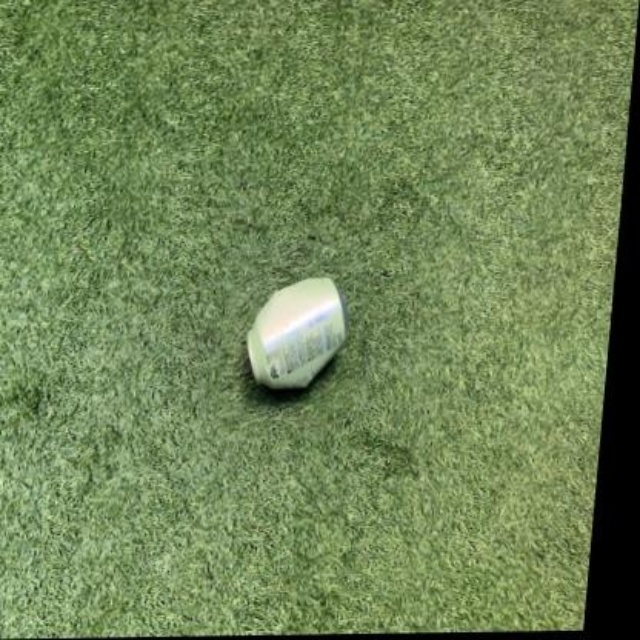trash: (248, 277, 345, 388)
